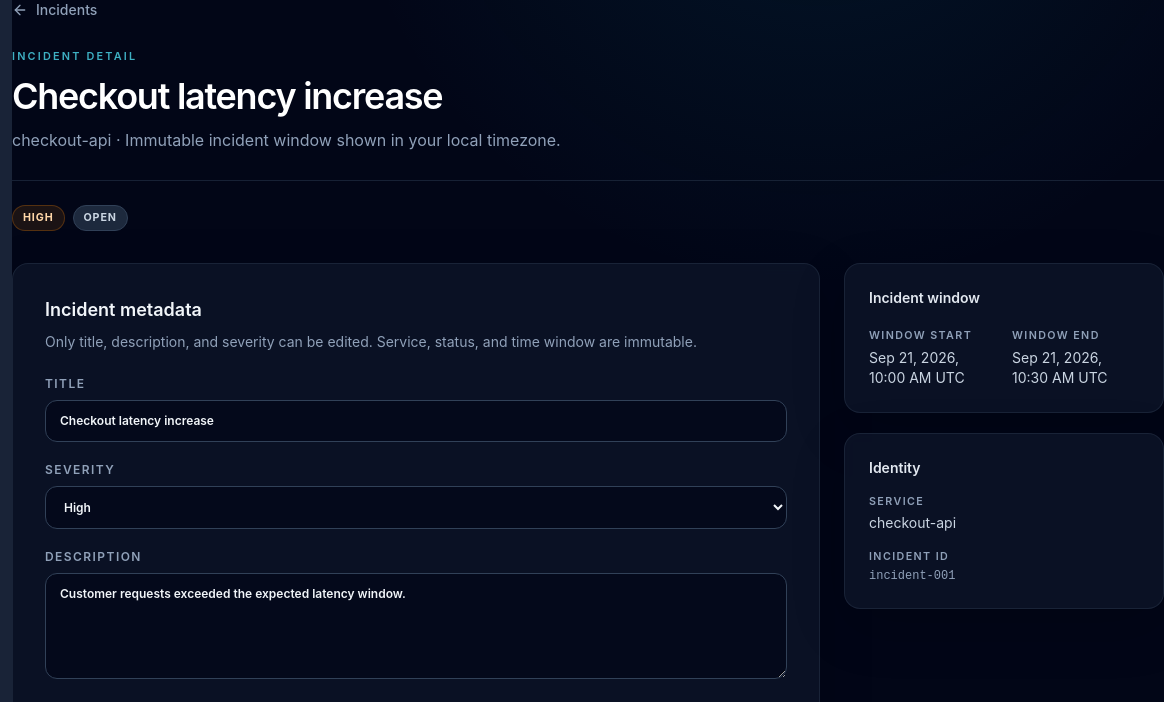
it: incident detail › loads immutable metadata and patches only supported editable fields
Expected: the heading "Checkout latency increase" is shown, [12,74,442,118]
Expected: the text "checkout-api" is shown, [869,514,956,531]
Replace the text in the field labelled "Title" with "Updated checkout latency". click: (416, 421)
box: [45,400,787,442]
(page scrolled)
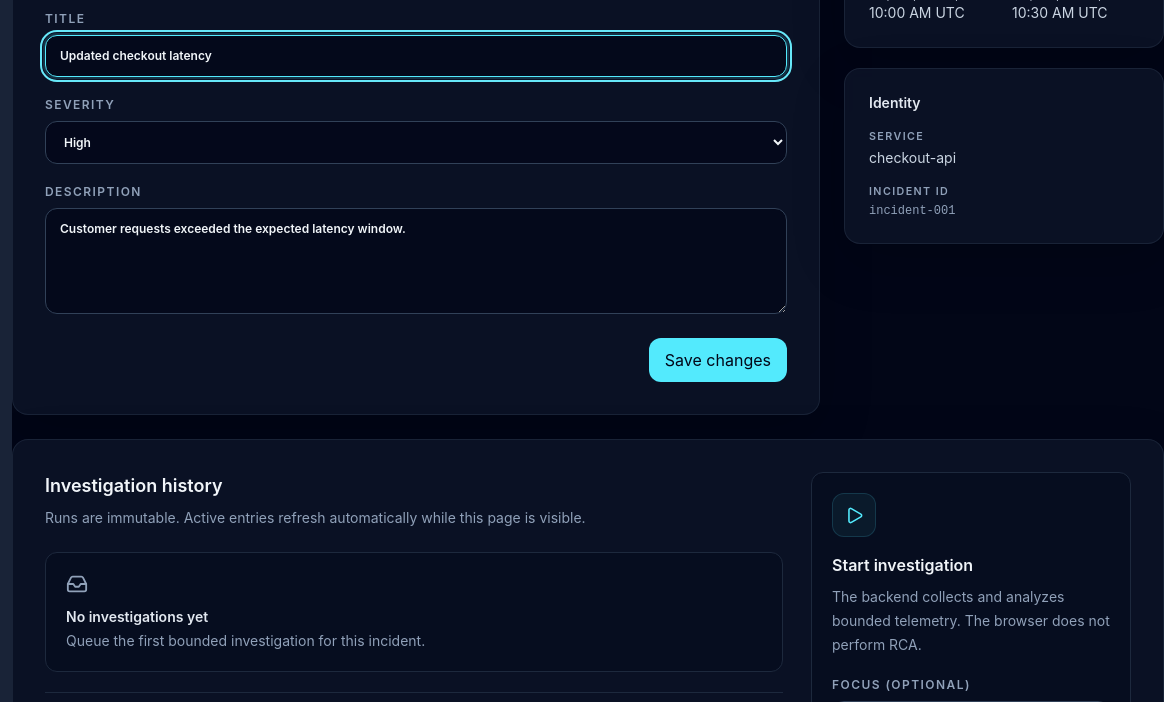
Click the button "Save changes". click: (718, 360)
box: [649,338,787,382]
(page scrolled)
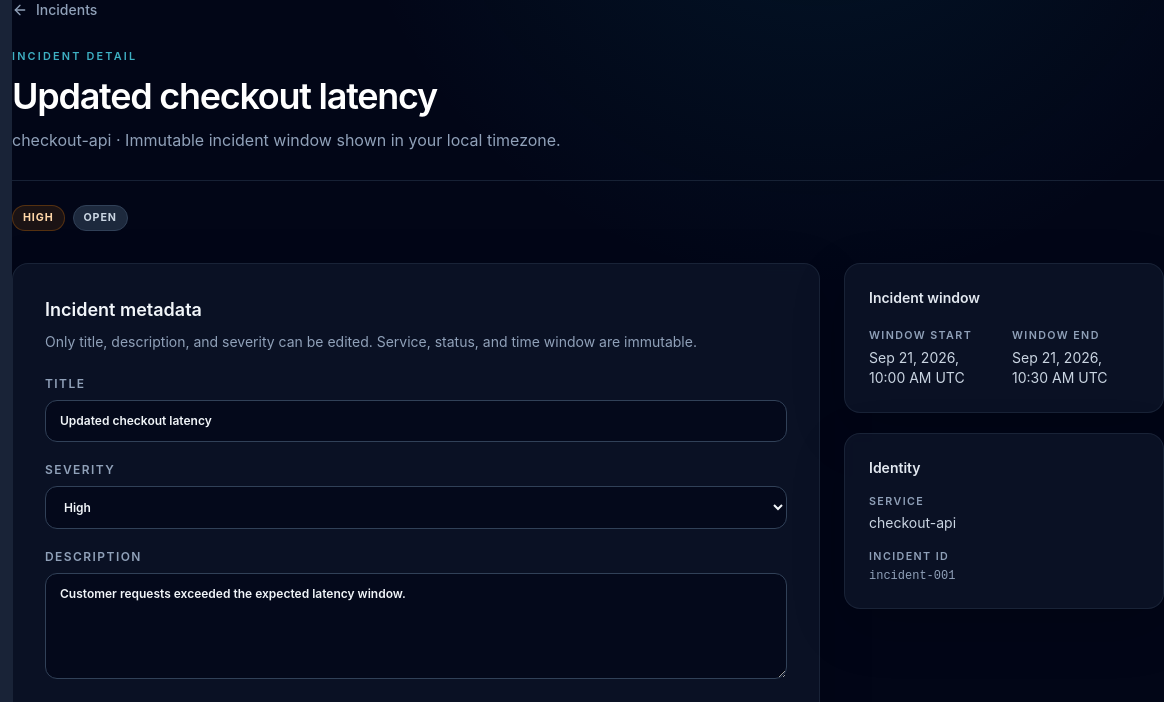
Result: the heading "Updated checkout latency" is shown at [12,74,437,118]
